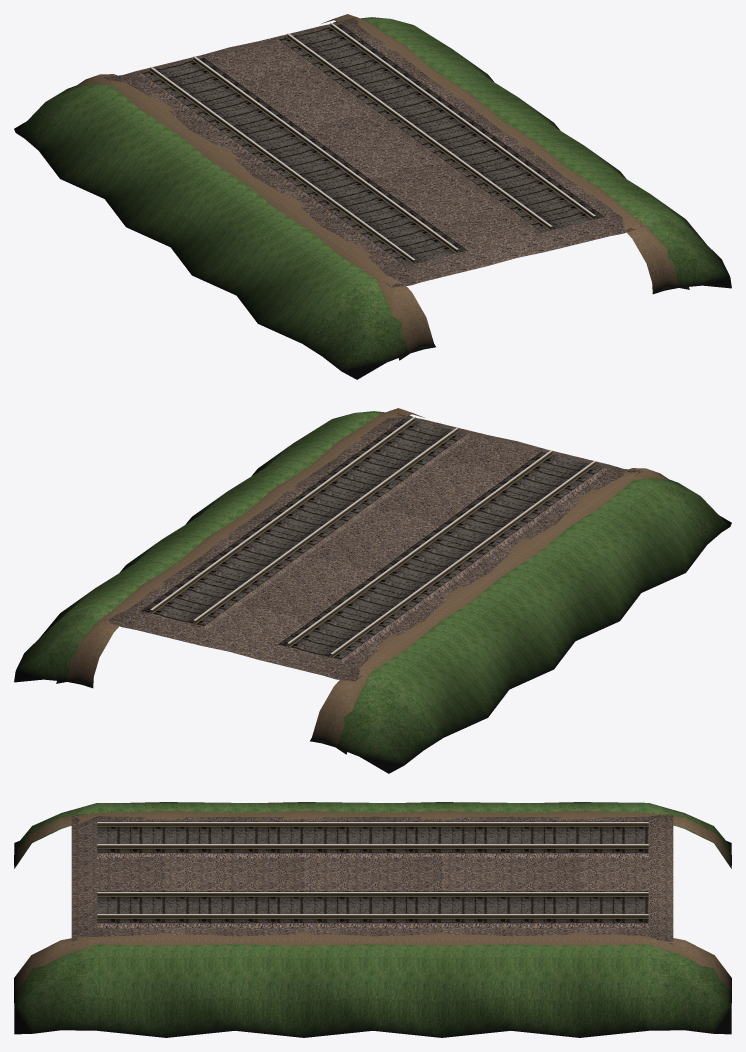
File: KI_RAIL00_50.glb
3 renders of one model, top to bottom at view 1: azimuth 30°, elevation 25°; view 2: azimuth 150°, elevation 25°; view 3: azimuth 270°, elevation 25°, orthographic. The views are drawn at different scales.
Parts seen in each view (by area): view 1: Jari_All; view 2: Jari_All; view 3: Jari_All.
Boxes of the visible parts, x1,y1,x2,y2 form: Jari_All: [14, 14, 731, 379]; Jari_All: [14, 408, 731, 773]; Jari_All: [14, 802, 731, 1037].
Bounding box in the file's own units: 46.85 × 7.02 × 65.08.
6 materials, 5 textured.
